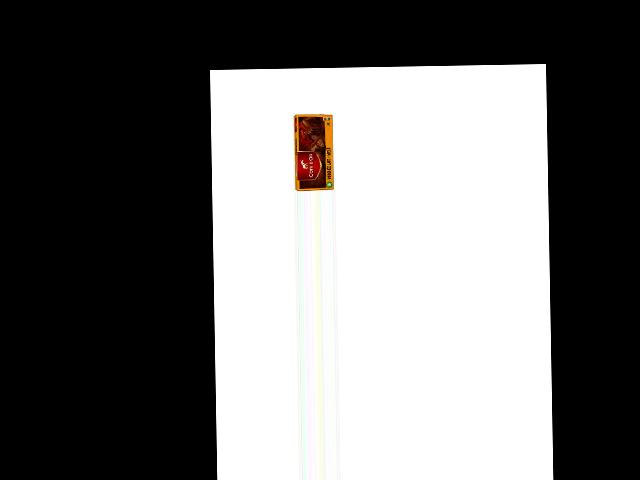chocolate: (292, 112, 340, 190)
